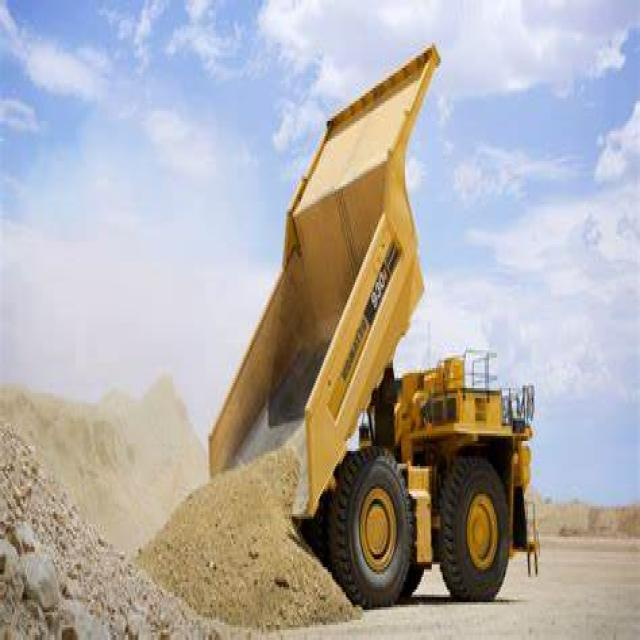dump_truck: (184, 35, 552, 605)
